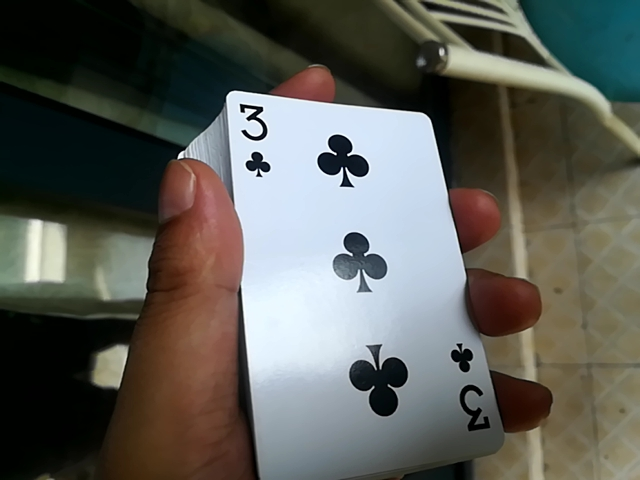mh 3: (202, 92, 474, 475)
